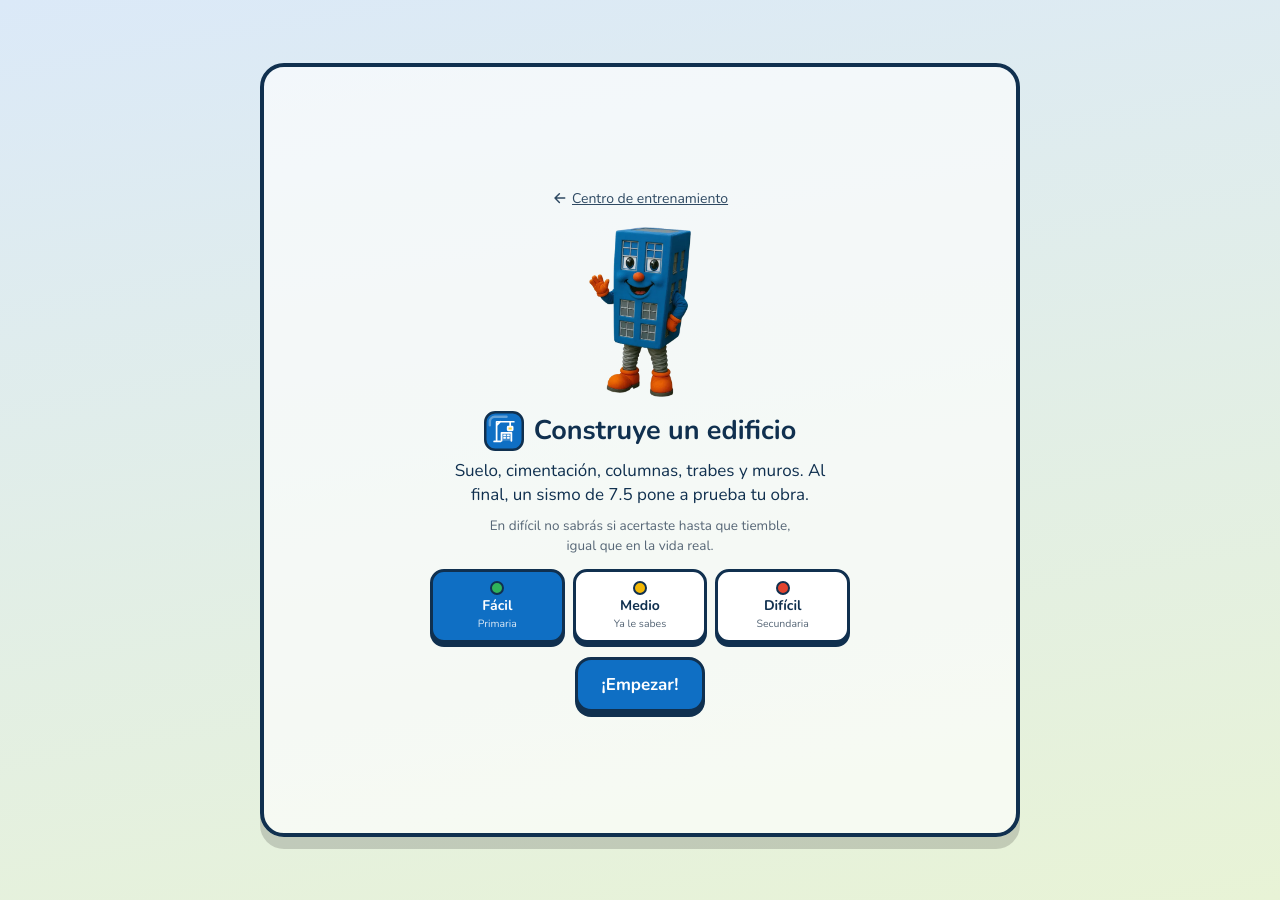
construye un edificio › fácil: pocas palabras y solo dos opciones grandes
Step 1. Click the button "¡Empezar!" → (640, 685), box [574,657,705,712]
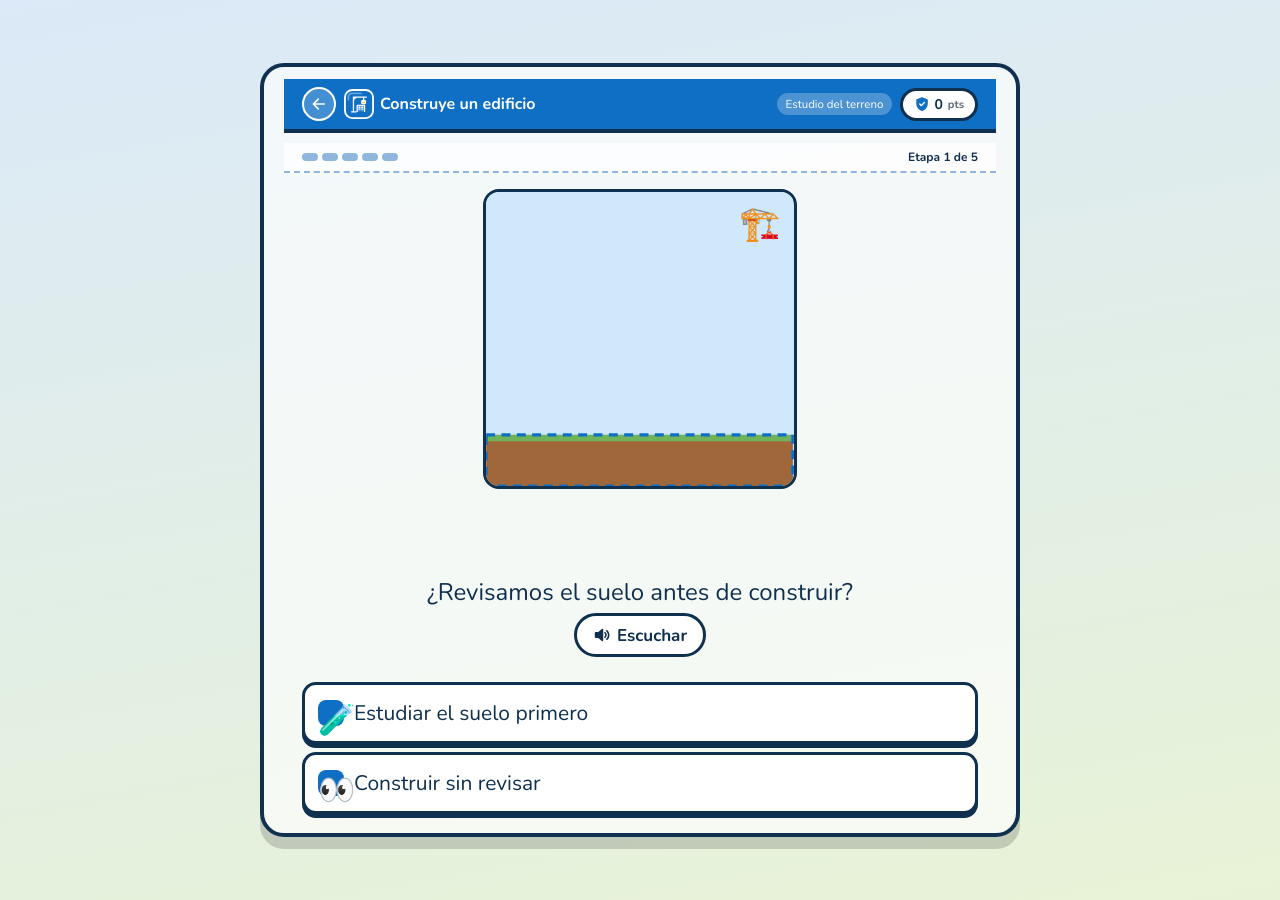
Expected: the element with class "mini--lectura" is shown, [264,67,1016,833]
